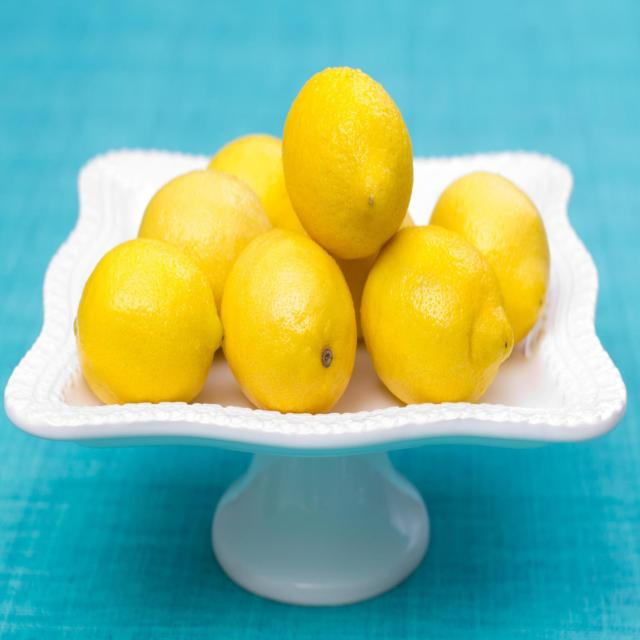lemon: (358, 220, 515, 408), (279, 59, 416, 266), (71, 232, 226, 410)
